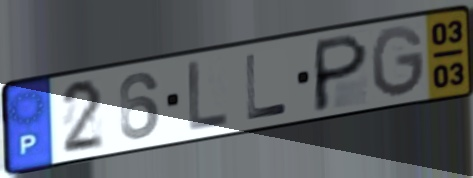2: (58, 77, 106, 157)
6: (116, 70, 164, 142)
G: (368, 23, 427, 100)
L: (185, 57, 231, 134), (242, 51, 291, 123)
P: (310, 30, 372, 115)
